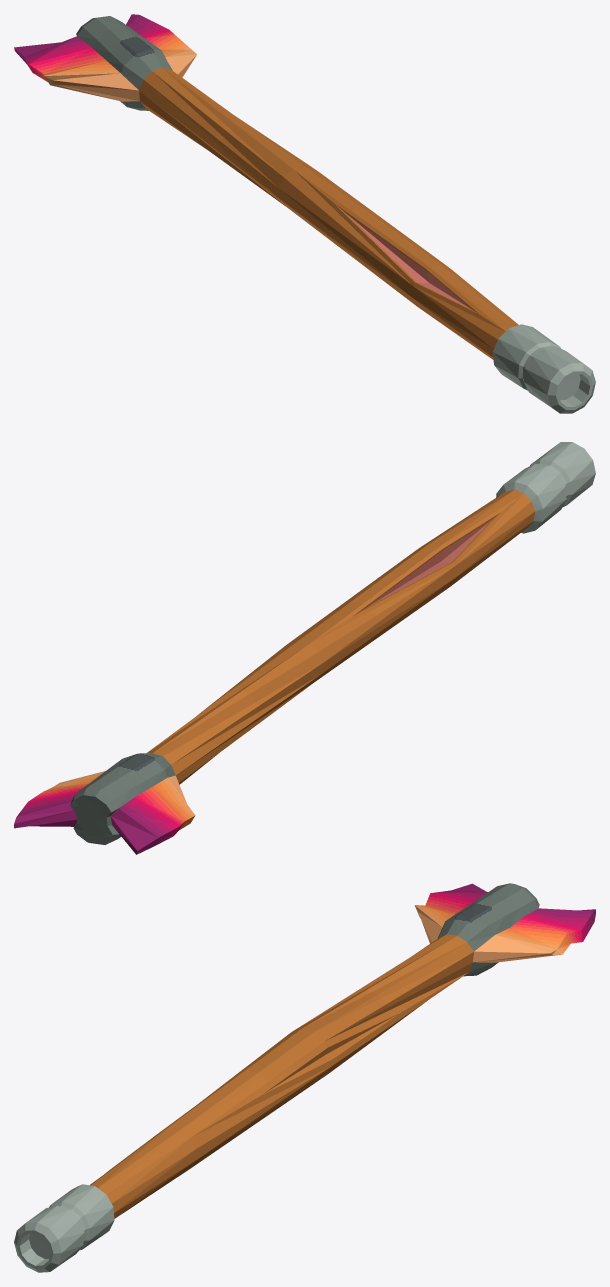
File: SM_ArrowShaft.fbx
The picture shows the model from 3 angles, top to bottom: view 1: azimuth 30°, elevation 25°; view 2: azimuth 150°, elevation 25°; view 3: azimuth 330°, elevation 25°; orthographic projection.
Visible parts, largest first — view 1: SM_ArrowShaft; view 2: SM_ArrowShaft; view 3: SM_ArrowShaft.
Part boxes in pixels (x1,y1,x2,y2): SM_ArrowShaft: (14,14,595,413); SM_ArrowShaft: (14,442,595,854); SM_ArrowShaft: (14,883,595,1272).
Bounding box in the file's own units: 12.11 × 4.83 × 70.77.
1 material, 1 textured.
